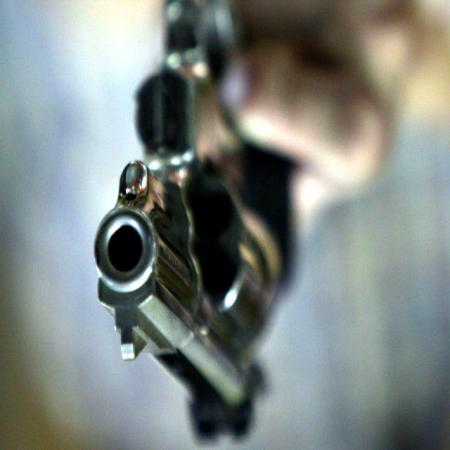Pistol: (93, 9, 292, 446)
